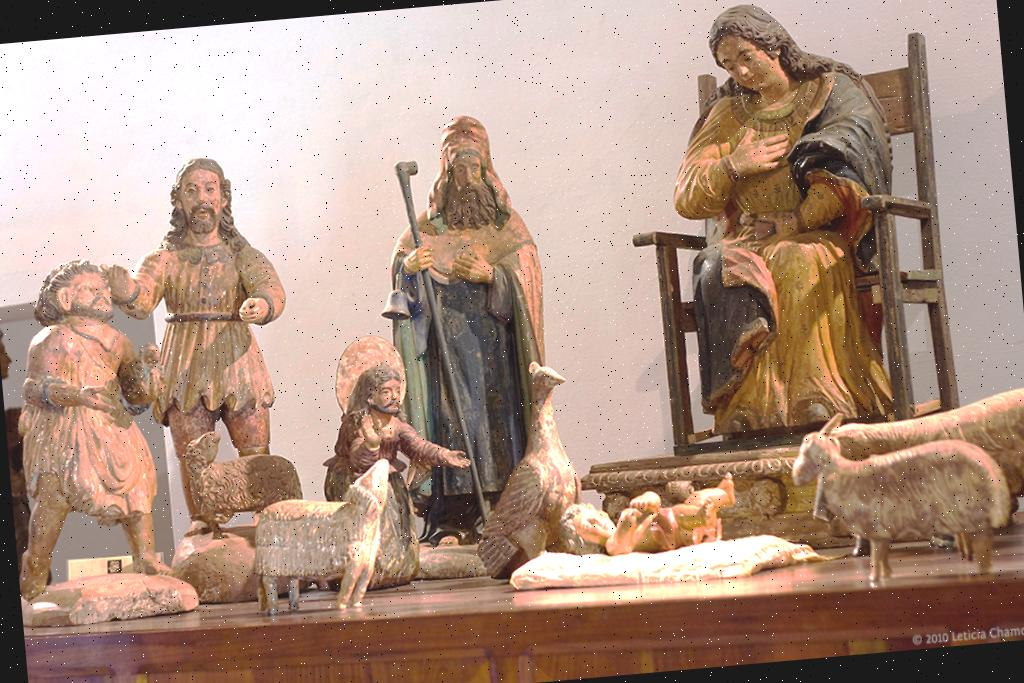Sheep: (786, 394, 1016, 588), (250, 456, 400, 616), (179, 425, 308, 534)
